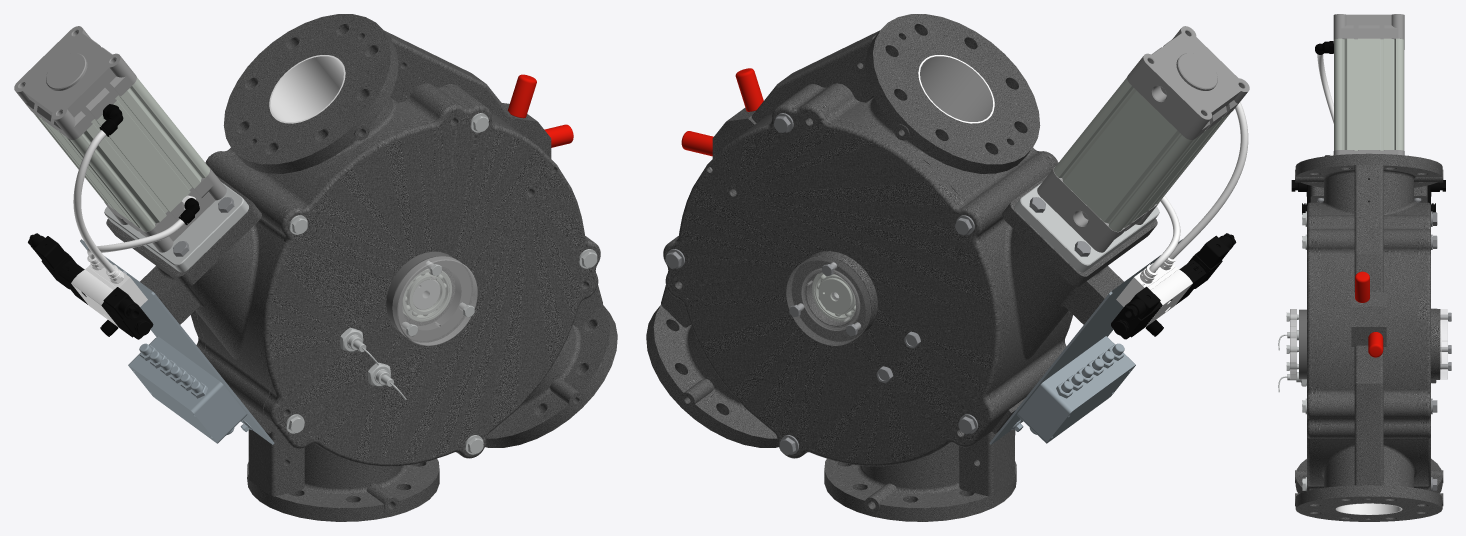
The model's file is DTD-model.glb.
3 views of the same model, side by side, from view 1: azimuth 30°, elevation 25°; view 2: azimuth 150°, elevation 25°; view 3: azimuth 270°, elevation 25° (orthographic). The views are drawn at different scales.
Parts seen in each view (by area): view 1: Solid138001, Solid1130, Solid153001, Solid153, Solid1002, Solid138011, Solid166, Solid138002, Solid159, Solid1023, NurbsPath008, Solid1035 (+5 smaller); view 2: Solid144, Solid1130, Solid153001, Solid153, Solid1002, Solid137, Solid166, Solid159, Solid1023, NurbsPath008, Solid1035, Solid187 (+2 smaller); view 3: Solid1130, Solid153001, Solid144, Solid138001, Solid153, Cylinder, Solid166, Solid138002, Solid137, Solid1023, Solid138011, NurbsPath008 (+5 smaller).
Part boxes in pixels (left/top/right/bottom): Solid138001: left=256, top=99, right=600, bottom=466; Solid1130: left=106, top=14, right=617, bottom=521; Solid153001: left=33, top=77, right=209, bottom=231; Solid153: left=14, top=26, right=226, bottom=252; Solid1002: left=80, top=239, right=274, bottom=444; Solid138011: left=393, top=256, right=477, bottom=345; Solid166: left=269, top=55, right=345, bottom=123; Solid138002: left=386, top=251, right=471, bottom=340; Solid159: left=104, top=182, right=248, bottom=272; Solid1023: left=28, top=233, right=153, bottom=339; NurbsPath008: left=73, top=130, right=184, bottom=272; Solid1035: left=71, top=263, right=147, bottom=327; Solid144: left=663, top=99, right=1007, bottom=466; Solid1130: left=646, top=14, right=1157, bottom=521; Solid153001: left=1054, top=77, right=1230, bottom=231; Solid153: left=1037, top=26, right=1249, bottom=252; Solid1002: left=989, top=239, right=1182, bottom=444; Solid137: left=786, top=256, right=870, bottom=345; Solid166: left=918, top=55, right=994, bottom=123; Solid159: left=1015, top=182, right=1159, bottom=272; Solid1023: left=1111, top=233, right=1236, bottom=339; NurbsPath008: left=1149, top=102, right=1248, bottom=272; Solid1035: left=1116, top=263, right=1192, bottom=327; Solid187: left=665, top=113, right=977, bottom=455; Solid1130: left=1295, top=153, right=1443, bottom=521; Solid153001: left=1334, top=38, right=1404, bottom=150; Solid144: left=1417, top=202, right=1440, bottom=490; Solid138001: left=1307, top=202, right=1320, bottom=490; Solid153: left=1333, top=14, right=1404, bottom=155; Cylinder: left=1355, top=271, right=1383, bottom=357; Solid166: left=1335, top=503, right=1402, bottom=514; Solid138002: left=1299, top=309, right=1306, bottom=379; Solid137: left=1440, top=309, right=1447, bottom=379; Solid1023: left=1291, top=180, right=1445, bottom=214; Solid138011: left=1290, top=309, right=1296, bottom=379; NurbsPath008: left=1317, top=54, right=1333, bottom=123.
Bounding box in the file's own units: 30.55 × 25.69 × 10.57.
22 materials, 1 textured.
